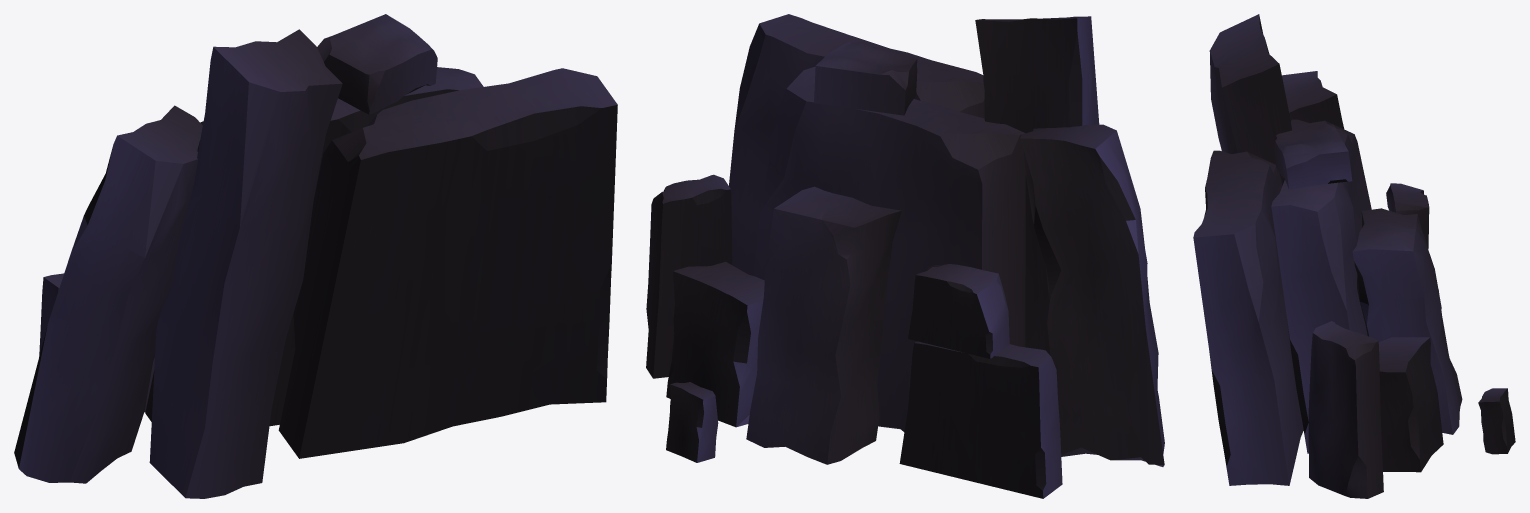
Rendered from rock1.fbx.
3 views of the same model, side by side, from view 1: azimuth 30°, elevation 25°; view 2: azimuth 150°, elevation 25°; view 3: azimuth 270°, elevation 25° (orthographic). The views are drawn at different scales.
Visible parts, largest first — view 1: cave.002; view 2: cave.002; view 3: cave.002.
Part boxes in pixels (x1=…): cave.002: x1=14, y1=14, x2=617, y2=498; cave.002: x1=646, y1=14, x2=1164, y2=498; cave.002: x1=1193, y1=14, x2=1515, y2=498.
Size of the model in its own units: 1609 by 1266 by 1050.
